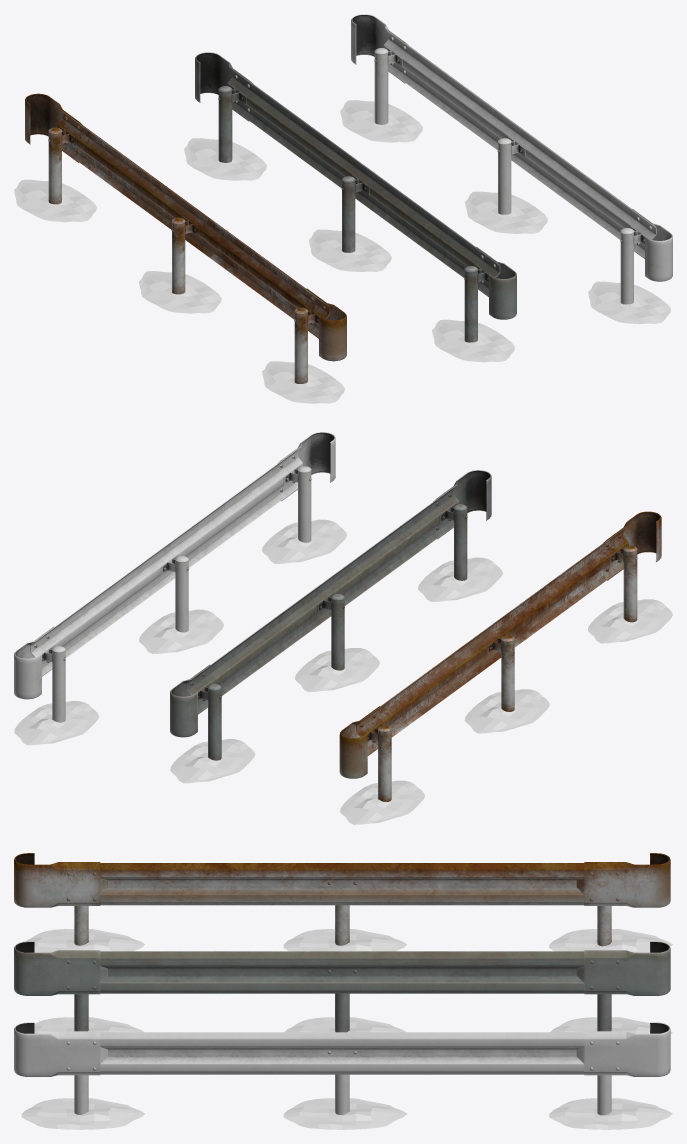
The model's file is Guard_Rail1_sketchfab.fbx.
3 renders of one model, top to bottom at view 1: azimuth 30°, elevation 25°; view 2: azimuth 150°, elevation 25°; view 3: azimuth 270°, elevation 25°, orthographic. The views are drawn at different scales.
Visible parts, largest first — view 1: Cube.007, Cube, Cube.009, Cube.010, Cube.001, Cube.008, Plane.009, Plane.001, Plane.006, Plane.003, Plane.004, Plane.007 (+12 smaller); view 2: Cube.009, Cube, Cube.007, Cube.010, Cube.001, Cube.008, Plane.002, Plane.007, Plane.001, Plane.005, Plane.004, Plane.008 (+12 smaller); view 3: Cube, Cube.009, Cube.007, Cube.008, Cube.001, Cube.010, Plane.003, Plane.002, Plane.001, Plane.007, Plane.009, Plane.008 (+12 smaller).
Boxes of the visible parts, x1,y1,x2,y2 form: Cube.007: [227, 67, 500, 295]; Cube: [383, 29, 656, 257]; Cube.009: [57, 108, 330, 337]; Cube.010: [25, 93, 346, 361]; Cube.001: [351, 14, 672, 281]; Cube.008: [195, 52, 516, 319]; Plane.009: [262, 361, 344, 403]; Plane.001: [465, 191, 547, 233]; Plane.006: [432, 319, 514, 362]; Plane.003: [588, 281, 670, 324]; Plane.004: [309, 229, 391, 271]; Plane.007: [139, 271, 221, 313]; Cube.009: [356, 526, 628, 754]; Cube: [30, 447, 302, 675]; Cube.007: [186, 485, 458, 713]; Cube.010: [339, 511, 661, 778]; Cube.001: [14, 432, 335, 699]; Cube.008: [170, 470, 491, 737]; Plane.002: [14, 701, 99, 745]; Plane.007: [464, 689, 549, 733]; Plane.001: [139, 609, 223, 653]; Plane.005: [170, 739, 255, 783]; Plane.004: [295, 648, 379, 692]; Plane.008: [340, 780, 424, 824]; Cube: [100, 1032, 584, 1074]; Cube.009: [100, 863, 584, 905]; Cube.007: [100, 951, 584, 993]; Cube.008: [14, 941, 670, 995]; Cube.001: [14, 1022, 670, 1076]; Cube.010: [14, 853, 670, 907]; Plane.003: [21, 1098, 144, 1129]; Plane.002: [549, 1098, 672, 1129]; Plane.001: [283, 1098, 406, 1129]; Plane.007: [283, 929, 406, 951]; Plane.009: [25, 929, 144, 952]; Plane.008: [549, 929, 672, 952].
Size of the model in its own units: 376 by 78.78 by 521.
5 materials, 3 textured.
